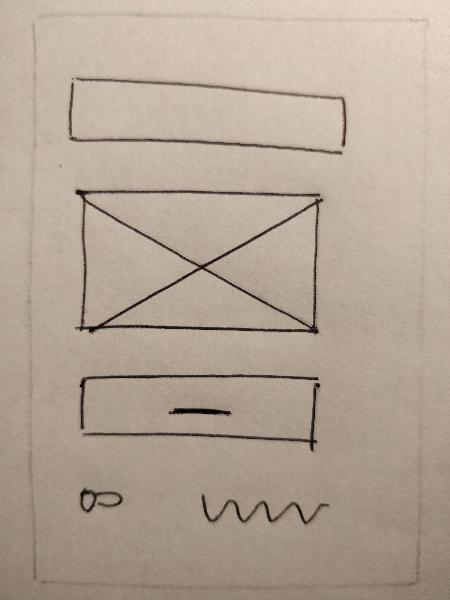button: (73, 364, 326, 458)
image: (66, 181, 327, 346)
switch: (65, 476, 135, 524)
text: (182, 485, 337, 536)
text_input: (61, 68, 353, 164)
